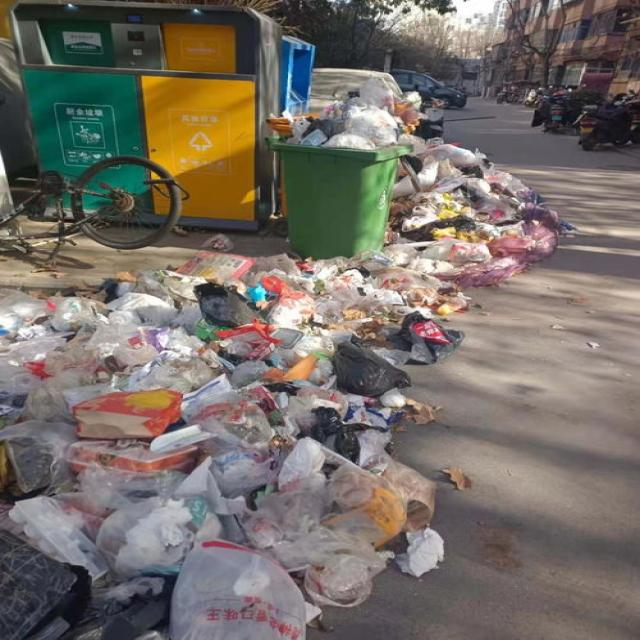garbage: (0, 135, 576, 639)
garbage_bin: (9, 0, 275, 233)
overflow: (264, 66, 426, 256)
